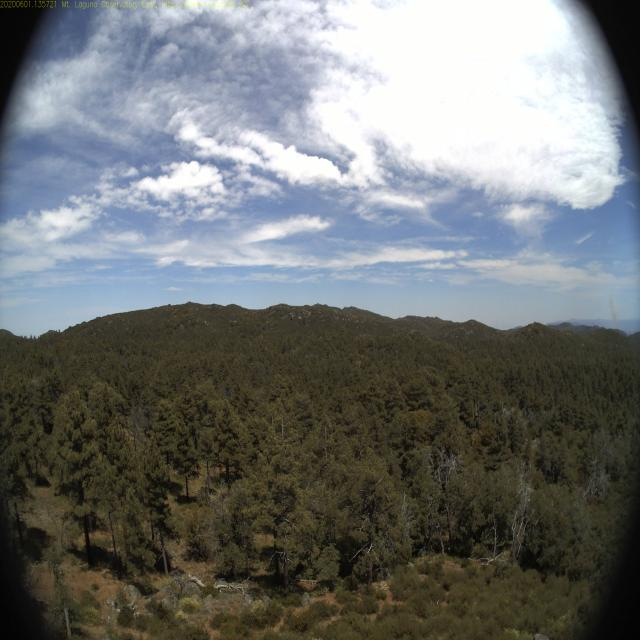smoke: (606, 287, 621, 328)
